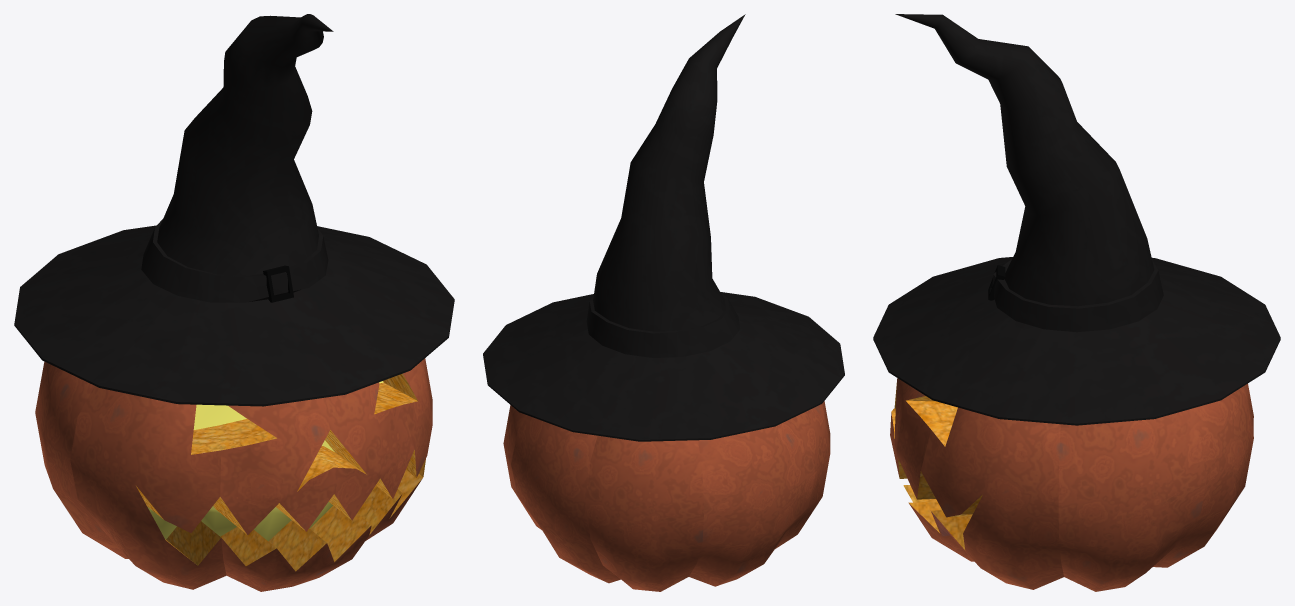
Rendered from calabaza.FBX.
The picture shows the model from 3 angles, left to right: view 1: azimuth 30°, elevation 25°; view 2: azimuth 150°, elevation 25°; view 3: azimuth 270°, elevation 25°; orthographic projection. The views are drawn at different scales.
Parts seen in each view (by area): view 1: Box001; view 2: Box001; view 3: Box001.
Part boxes in pixels (box(x1,y1,x2,y2)): Box001: box(14, 14, 454, 591); Box001: box(483, 14, 844, 591); Box001: box(873, 14, 1280, 591).
Size of the model in its own units: 35.8 by 52.56 by 35.8.
Materials: 1 (1 with a texture image).
